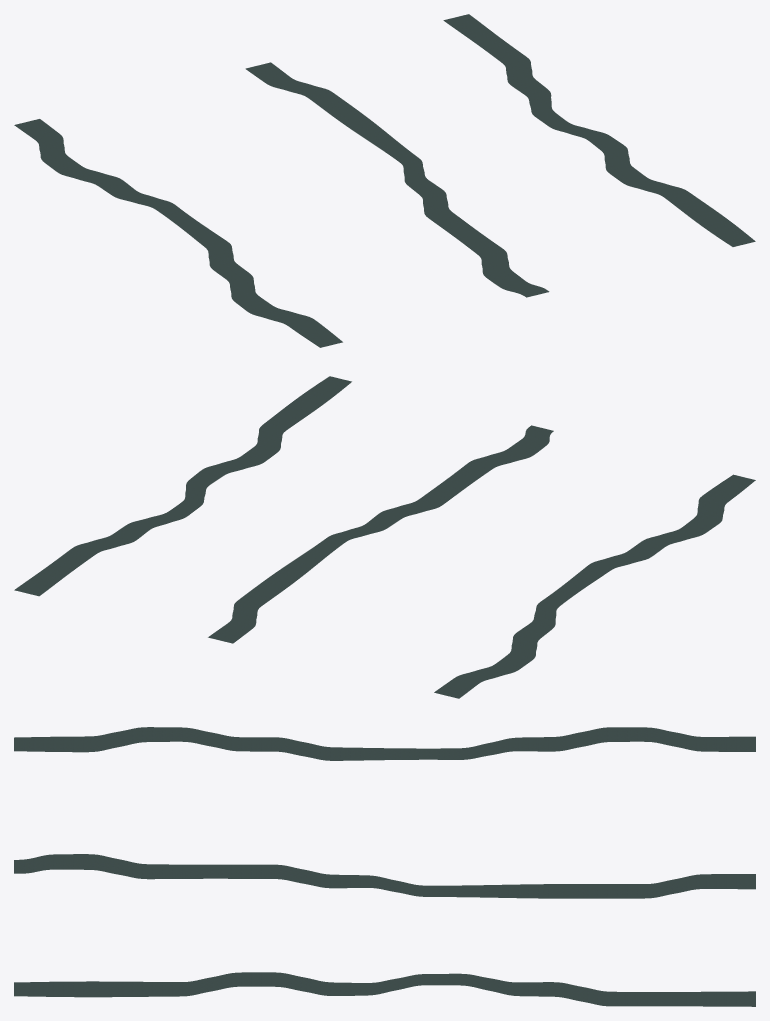
File: water.glb
The picture shows the model from 3 angles, top to bottom: view 1: azimuth 30°, elevation 25°; view 2: azimuth 150°, elevation 25°; view 3: azimuth 270°, elevation 25°; orthographic projection. The views are drawn at different scales.
Visible parts, largest first — view 1: RiverWater_0, RiverWater_2, RiverWater_1; view 2: RiverWater_1, RiverWater_0, RiverWater_2; view 3: RiverWater_2, RiverWater_0, RiverWater_1.
Boxes of the visible parts, x1=… form: RiverWater_0: x1=14, y1=119, x2=342, y2=347; RiverWater_2: x1=443, y1=14, x2=755, y2=246; RiverWater_1: x1=245, y1=62, x2=549, y2=297; RiverWater_1: x1=208, y1=425, x2=553, y2=643; RiverWater_0: x1=434, y1=474, x2=755, y2=698; RiverWater_2: x1=14, y1=376, x2=351, y2=596; RiverWater_2: x1=14, y1=972, x2=755, y2=1006; RiverWater_0: x1=14, y1=727, x2=755, y2=760; RiverWater_1: x1=14, y1=854, x2=755, y2=898.
Size of the model in its own units: 268 by 0 by 300.
1 material, 1 textured.
